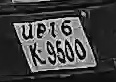0: (73, 37, 86, 63), (64, 40, 75, 65)
1: (48, 21, 58, 39)
5: (56, 39, 65, 64)
6: (60, 18, 75, 37)
9: (45, 40, 57, 66)
K: (27, 42, 44, 67)
P: (35, 21, 47, 39)
U: (21, 24, 34, 41)
